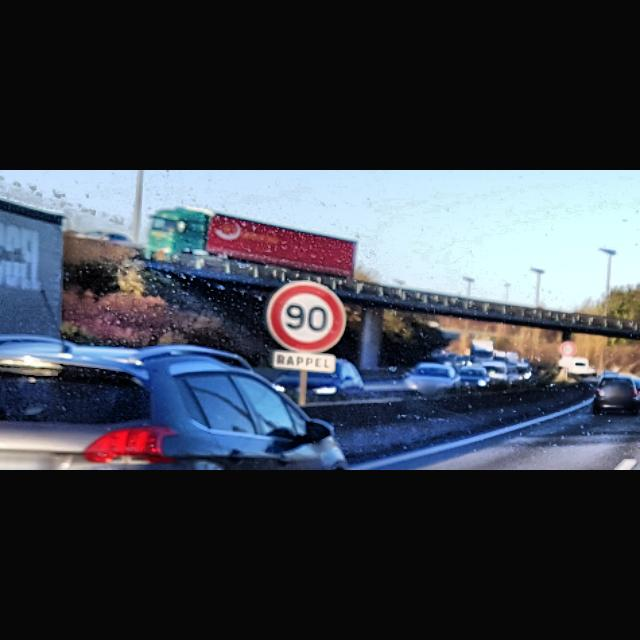speed_90: (264, 280, 346, 354)
